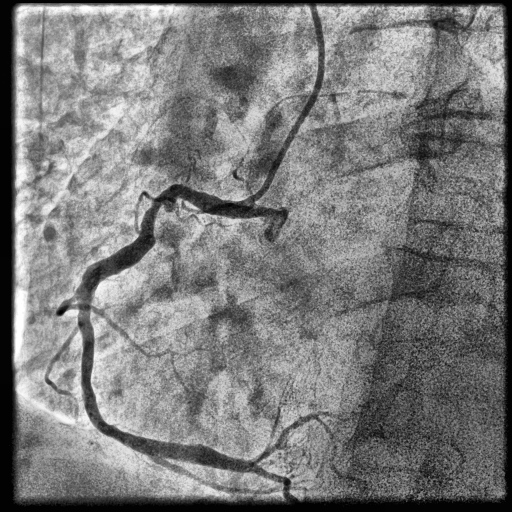pborca: (252, 412, 320, 464)
pda: (252, 466, 302, 508)
rca: (78, 184, 257, 473)
